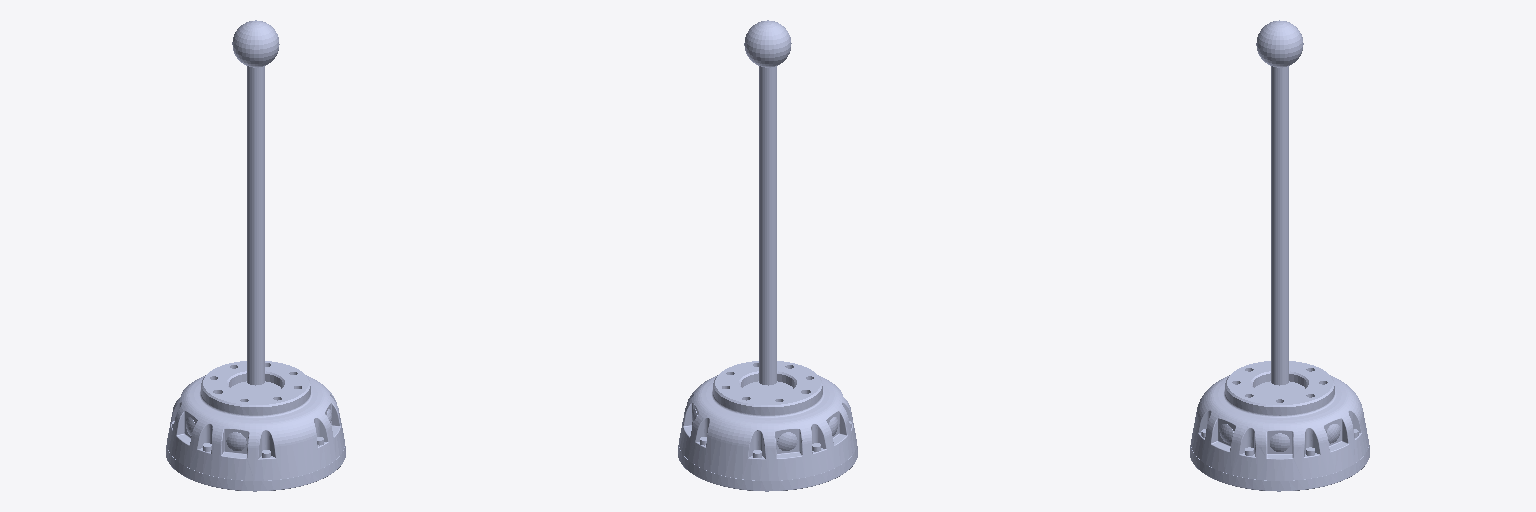
The robot description file, URDF, robot "lbr_iiwa":
<?xml version="1.0" ?>
<!-- =================================================================================== -->
<!-- |    This document was autogenerated by xacro from lbr_iiwa_urdf.xacro            | -->
<!-- |    EDITING THIS FILE BY HAND IS NOT RECOMMENDED                                 | -->
<!-- =================================================================================== -->
<robot name="lbr_iiwa">
<!-- Basic colors -->
    <material name="black">
        <color rgba="0.0 0.0 0.0 1.0"/>
    </material>
    <material name="blue">
        <color rgba="0.0 0.0 0.8 1.0"/>
    </material>
    <material name="green">
        <color rgba="0.0 0.8 0.0 1.0"/>
    </material>
    <material name="grey">
        <color rgba="0.2 0.2 0.2 1.0"/>
    </material>
    <material name="light_grey">
        <color rgba="0.4 0.4 0.4 1.0"/>
    </material>
    <material name="red">
        <color rgba="0.8 0.0 0.0 1.0"/>
    </material>
    <material name="white">
        <color rgba="1.0 1.0 1.0 1.0"/>
    </material>
    <material name="orange" >
      <color rgba="0.9764705882352941 0.45098039215686275 0.023529411764705882 1.0" />
    </material>
    
  <link name="world"/>
  <!--joint between {parent} and link_0-->
  <joint name="world_joint" type="fixed">
    <origin rpy="0 0 0" xyz="0 0 0.0"/>
    <parent link="world"/>
    <child link="lbr_iiwa_link_0"/>
  </joint>
  <link name="lbr_iiwa_link_0">
    <inertial>
      <origin rpy="0 0 0" xyz="-0.1 0 0.07"/>
      <mass value="5"/>
      <inertia ixx="0.05" ixy="0" ixz="0" iyy="0.06" iyz="0" izz="0.03"/>
    </inertial>
    <visual>
      <origin rpy="0 0 0" xyz="0 0 0"/>
      <geometry>
        <mesh filename="../meshes/link_0.stl"/>
      </geometry>
      <material name="Grey"> 
        <color rgba="0.792156862745098 0.819607843137255 0.933333333333333 1"/>
      </material>
    </visual>
    <!--collision>
        <origin xyz="0 0 0" rpy="0 0 0"/>
        <geometry>
          <mesh filename="../meshes/coarse/link_0.obj"/>
        </geometry>
        <material name="Grey"> 
          <color rgba="0.792156862745098 0.819607843137255 0.933333333333333 1"/>
      </material>
    </collision-->

      <!--self_collision_checking>
        <origin xyz="0 0 0" rpy="0 0 0"/>
        <geometry>
          <capsule radius="0.15" length="0.25"/>
        </geometry>
      </self_collision_checking-->
  </link>
  <!-- joint between link_0 and link_1 -->
  <joint name="lbr_iiwa_joint_1" type="revolute">
    <parent link="lbr_iiwa_link_0"/>
    <child link="lbr_iiwa_link_1"/>
    <origin rpy="0 0 0" xyz="0 0 0.1575"/>
    <axis xyz="0 0 1"/>
    <limit effort="1000" lower="-2.9670597283903604" upper="2.9670597283903604" velocity="1000"/>
    <!--   <safety_controller soft_lower_limit="${-168 * M_PI / 180}"
           soft_upper_limit="${168 * M_PI / 180}"
           k_position="${safety_controller_k_pos}"
           k_velocity="${safety_controller_k_vel}"/> -->
    <dynamics damping="0.0"/>
  </joint>
  <link name="lbr_iiwa_link_1">
    <inertial>
      <origin rpy="0 0 0" xyz="0 -0.03 0.12"/>
      <mass value="4"/>
      <inertia ixx="0.1" ixy="0" ixz="0" iyy="0.09" iyz="0" izz="0.02"/>
    </inertial>
    <visual>
      <origin rpy="0 0 0" xyz="0 0 0"/>
      <geometry>
        <mesh filename="../meshes/link_1.stl"/>
      </geometry>
      <material name="orange"/> 
    </visual>
    <!--collision>
      <origin rpy="0 0 0" xyz="0 0 0"/>
      <geometry>
        <mesh filename="../meshes/coarse/link_1.obj"/>
      </geometry>
      <material name="Orange"> 
        <color rgba="0.792156862745098 0.819607843137255 0.933333333333333 1"/>
      </material>
    </collision-->
  </link>
  <!-- joint between link_1 and link_2 -->
  <joint name="lbr_iiwa_joint_2" type="revolute">
    <parent link="lbr_iiwa_link_1"/>
    <child link="lbr_iiwa_link_2"/>
    <origin rpy="1.5707963267948966   0 3.141592653589793" xyz="0 0 0.2025"/>
    <axis xyz="0 0 1"/>
    <limit effort="1000" lower="-2.0943951023931953" upper="2.0943951023931953" velocity="1000"/>
    <!-- <safety_controller soft_lower_limit="${-118 * PI / 180}"
           soft_upper_limit="${118 * PI / 180}"
           k_position="${safety_controller_k_pos}"
           k_velocity="${safety_controller_k_vel}"/> -->
    <dynamics damping="0.0"/>
  </joint>
  <link name="lbr_iiwa_link_2">
    <inertial>
      <origin rpy="0 0 0" xyz="0.0003 0.059 0.042"/>
      <mass value="4"/>
      <inertia ixx="0.05" ixy="0" ixz="0" iyy="0.018" iyz="0" izz="0.044"/>
    </inertial>
    <visual>
      <origin rpy="0 0 0" xyz="0 0 0"/>
      <geometry>
        <mesh filename="../meshes/link_2.stl"/>
      </geometry>
      <material name="orange"/>
    </visual>
    <!--collision>
      <origin rpy="0 0 0" xyz="0 0 0"/>
      <geometry>
        <mesh filename="../meshes/coarse/link_2.obj"/>
      </geometry>
      <material name="Orange"> 
        <color rgba="0.792156862745098 0.819607843137255 0.933333333333333 1"/>
      </material>
    </collision-->
  </link>
  <!-- joint between link_2 and link_3 -->
  <joint name="lbr_iiwa_joint_3" type="revolute">
    <parent link="lbr_iiwa_link_2"/>
    <child link="lbr_iiwa_link_3"/>
    <origin rpy="1.5707963267948966 0 3.141592653589793" xyz="0 0.2045 0"/>
    <axis xyz="0 0 1"/>
    <limit effort="1000" lower="-2.9670597283903604" upper="2.9670597283903604" velocity="1000"/>
    <!-- <safety_controller soft_lower_limit="${-118 * PI / 180}"
           soft_upper_limit="${118 * PI / 180}"
           k_position="${safety_controller_k_pos}"
           k_velocity="${safety_controller_k_vel}"/> -->
    <dynamics damping="0.0"/>
  </joint>
  <link name="lbr_iiwa_link_3">
    <inertial>
      <origin rpy="0 0 0" xyz="0 0.03 0.13"/>
      <mass value="3"/>
      <inertia ixx="0.08" ixy="0" ixz="0" iyy="0.075" iyz="0" izz="0.01"/>
    </inertial>
    <visual>
      <origin rpy="0 0 0" xyz="0 0 0"/>
      <geometry>
        <mesh filename="../meshes/link_3.stl"/>
      </geometry>
      <material name="orange"/>
    </visual>
    <!--collision>
      <origin rpy="0 0 0" xyz="0 0 0"/>
      <geometry>
        <mesh filename="../meshes/coarse/link_3.obj"/>
      </geometry>
      <material name="Orange"> 
        <color rgba="0.792156862745098 0.819607843137255 0.933333333333333 1"/>
      </material>
    </collision-->
  </link>
  <!-- joint between link_3 and link_4 -->
  <joint name="lbr_iiwa_joint_4" type="revolute">
    <parent link="lbr_iiwa_link_3"/>
    <child link="lbr_iiwa_link_4"/>
    <origin rpy="1.5707963267948966 0 0" xyz="0 0 0.2155"/>
    <axis xyz="0 0 1"/>
    <limit effort="1000" lower="-2.0943951023931953" upper="2.0943951023931953" velocity="1000"/>
    <!-- <safety_controller soft_lower_limit="${-118 * PI / 180}"
           soft_upper_limit="${118 * PI / 180}"
           k_position="${safety_controller_k_pos}"
           k_velocity="${safety_controller_k_vel}"/> -->
    <dynamics damping="0.0"/>
  </joint>
  <link name="lbr_iiwa_link_4">
    <inertial>
      <origin rpy="0 0 0" xyz="0 0.067 0.034"/>
      <mass value="2.7"/>
      <inertia ixx="0.03" ixy="0" ixz="0" iyy="0.01" iyz="0" izz="0.029"/>
    </inertial>
    <visual>
      <origin rpy="0 0 0" xyz="0 0 0"/>
      <geometry>
        <mesh filename="../meshes/link_4.stl"/>
      </geometry>
      <material name="orange"/>
    </visual>
    <!--collision>
      <origin rpy="0 0 0" xyz="0 0 0"/>
      <geometry>
        <mesh filename="../meshes/coarse/link_4.obj"/>
      </geometry>
      <material name="Orange"> 
        <color rgba="0.792156862745098 0.819607843137255 0.933333333333333 1"/>
      </material>
    </collision-->
  </link>
  <!-- joint between link_4 and link_5 -->
  <joint name="lbr_iiwa_joint_5" type="revolute">
    <parent link="lbr_iiwa_link_4"/>
    <child link="lbr_iiwa_link_5"/>
    <origin rpy="-1.5707963267948966 3.141592653589793 0" xyz="0 0.1845 0"/>
    <axis xyz="0 0 1"/>
    <limit effort="1000" lower="-2.9670597283903604" upper="2.9670597283903604" velocity="1000"/>
    <!-- <safety_controller soft_lower_limit="${-118 * PI / 180}"
           soft_upper_limit="${118 * PI / 180}"
           k_position="${safety_controller_k_pos}"
           k_velocity="${safety_controller_k_vel}"/> -->
    <dynamics damping="0.0"/>
  </joint>
  <link name="lbr_iiwa_link_5">
    <inertial>
      <origin rpy="0 0 0" xyz="0.0001 0.021 0.076"/>
      <mass value="1.7"/>
      <inertia ixx="0.02" ixy="0" ixz="0" iyy="0.018" iyz="0" izz="0.005"/>
    </inertial>
    <visual>
      <origin rpy="0 0 0" xyz="0 0 0"/>
      <geometry>
        <mesh filename="../meshes/link_5.stl"/>
      </geometry>
      <material name="orange"/>
    </visual>
    <!--collision>
      <origin rpy="0 0 0" xyz="0 0 0"/>
      <geometry>
        <mesh filename="../meshes/coarse/link_5.obj"/>
      </geometry>
      <material name="Orange"> 
        <color rgba="0.792156862745098 0.819607843137255 0.933333333333333 1"/>
      </material>
    </collision-->
  </link>
  <!-- joint between link_5 and link_6 -->
  <joint name="lbr_iiwa_joint_6" type="revolute">
    <parent link="lbr_iiwa_link_5"/>
    <child link="lbr_iiwa_link_6"/>
    <origin rpy="1.5707963267948966 0 0" xyz="0 0 0.2155"/>
    <axis xyz="0 0 1"/>
    <limit effort="1000" lower="-2.0943951023931953" upper="2.0943951023931953" velocity="1000"/>
    <!-- <safety_controller soft_lower_limit="${-118 * PI / 180}"
           soft_upper_limit="${118 * PI / 180}"
           k_position="${safety_controller_k_pos}"
           k_velocity="${safety_controller_k_vel}"/> -->
    <dynamics damping="0.0"/>
  </joint>
  <link name="lbr_iiwa_link_6">
    <inertial>
      <origin rpy="0 0 0" xyz="0 0.0006 0.0004"/>
      <mass value="1.8"/>
      <inertia ixx="0.005" ixy="0" ixz="0" iyy="0.0036" iyz="0" izz="0.0047"/>
    </inertial>
    <visual>
      <origin rpy="0 0 0" xyz="0 0 0"/>
      <geometry>
        <mesh filename="../meshes/link_6.stl"/>
      </geometry>
      <material name="orange"/>
    </visual>
    <!--collision>
      <origin rpy="0 0 0" xyz="0 0 0"/>
      <geometry>
        <mesh filename="../meshes/coarse/link_6.obj"/>
      </geometry>
      <material name="Orange"> 
        <color rgba="0.792156862745098 0.819607843137255 0.933333333333333 1"/>
      </material>
    </collision-->
  </link>
  <!-- joint between link_6 and link_7 -->
  <joint name="lbr_iiwa_joint_7" type="revolute">
    <parent link="lbr_iiwa_link_6"/>
    <child link="lbr_iiwa_link_7"/>
    <origin rpy="-1.5707963267948966 3.141592653589793 0" xyz="0 0.081 0"/>
    <axis xyz="0 0 1"/>
    <limit effort="1000" lower="-3.0543261909900763" upper="3.0543261909900763" velocity="1000"/>
    <!-- <safety_controller soft_lower_limit="${-118 * PI / 180}"
           soft_upper_limit="${118 * PI / 180}"
           k_position="${safety_controller_k_pos}"
           k_velocity="${safety_controller_k_vel}"/> -->
    <dynamics damping="0.0"/>
  </joint>
  <link name="lbr_iiwa_link_7">
    <inertial>
      <origin rpy="0 0 0" xyz="0 0 0.02"/>
      <mass value="0.3"/>
      <inertia ixx="0.001" ixy="0" ixz="0" iyy="0.001" iyz="0" izz="0.001"/>
    </inertial>
    <visual>
      <origin rpy="0 0 0" xyz="0 0 0"/>
      <geometry>
        <mesh filename="../meshes/link_7_pusher.stl"/>
      </geometry>
      <material name="Grey"> 
        <color rgba="0.792156862745098 0.819607843137255 0.933333333333333 1"/>
      </material>
    </visual>
  </link>
  <joint name="lbr_iiwa_joint_ee_sphere" type="fixed">
    <parent link="lbr_iiwa_link_7"/>
    <child link="lbr_iiwa_link_ee_sphere"/>
    <origin rpy="0 0 0" xyz="0 0 0.26"/>
    <axis xyz="0 0 1"/>
    <!-- <safety_controller soft_lower_limit="${-118 * PI / 180}"
           soft_upper_limit="${118 * PI / 180}"
           k_position="${safety_controller_k_pos}"
           k_velocity="${safety_controller_k_vel}"/> -->
    <dynamics damping="0.0"/>
  </joint>
    <link name="lbr_iiwa_link_ee_sphere">
    <inertial>
      <origin rpy="0 0 0" xyz="0 0 0.0"/>
      <mass value="0.3"/>
      <inertia ixx="0.001" ixy="0" ixz="0" iyy="0.001" iyz="0" izz="0.001"/>
    </inertial>
   <collision>
      <origin rpy="0 0 0" xyz="0 0 0.0"/>
      <geometry>
        <sphere radius="0.01"/>
      </geometry>
      <material name="Grey"> 
        <color rgba="0.792156862745098 0.819607843137255 0.933333333333333 1"/>
      </material>
    </collision>
  </link>
</robot>

--- What the picture shows (computed from the rendered views, not written in the file) ---
Views: 3 orthographic renders of the robot side by side, from view 1: azimuth 30°, elevation 25°; view 2: azimuth 150°, elevation 25°; view 3: azimuth 270°, elevation 25°.
Model lbr_iiwa with 10 links and 9 joints (7 revolute, 2 fixed), rooted at world, posed all joints at 0.
Visible links, largest first — view 1: lbr_iiwa_link_7; view 2: lbr_iiwa_link_7; view 3: lbr_iiwa_link_7.
Link boxes in pixels (x1,y1,x2,y2): lbr_iiwa_link_7: [166, 20, 345, 491]; lbr_iiwa_link_7: [678, 20, 857, 491]; lbr_iiwa_link_7: [1190, 20, 1369, 491].
Bounding box of the posed robot: 0.1039 × 0.1039 × 0.2835 m (x, y, z).
Meshes: 8 distinct files referenced, 1 mesh visuals loaded (1 binary STL); not drawn: 7 (reference not matched to a file when rendering).